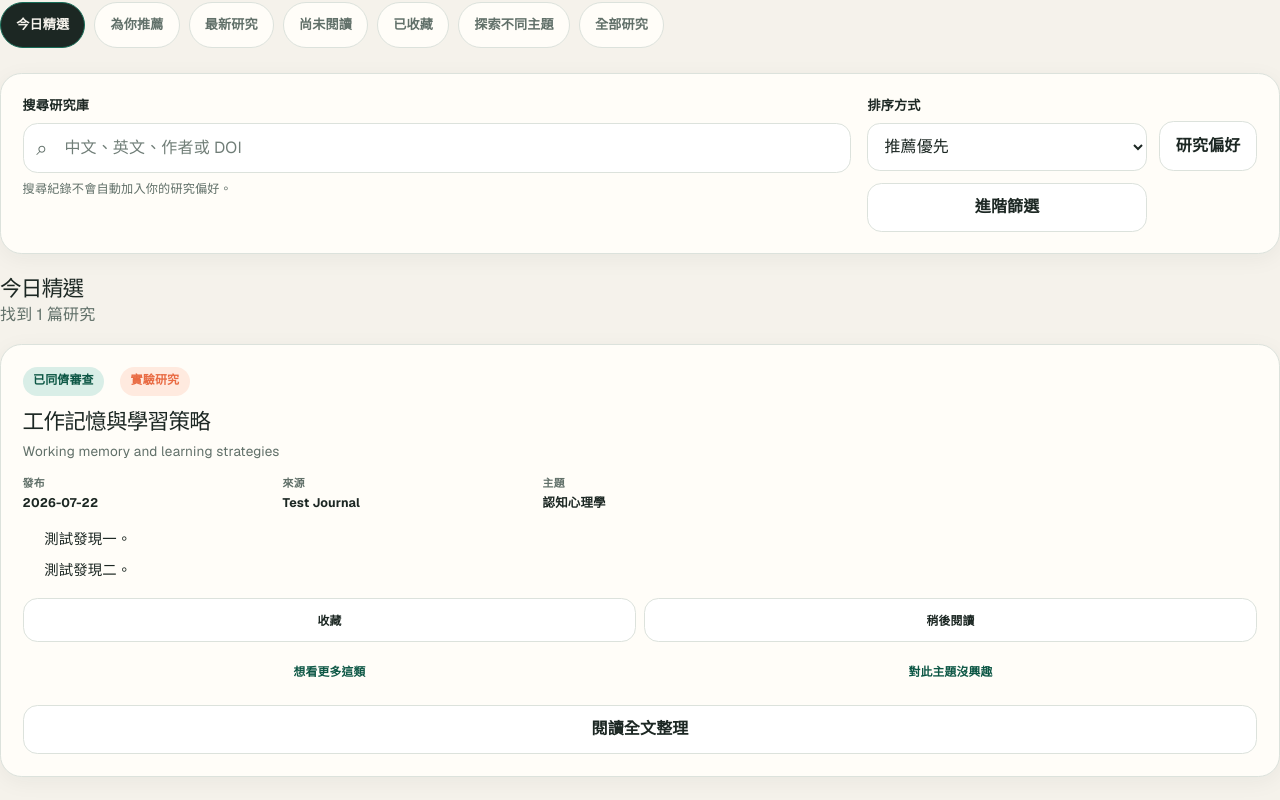
it: ResearchList › searches the local library and clears an empty result
This screenshot has width=1280, height=800.
Click the button "全部研究".
click(622, 25)  # box [579, 2, 664, 48]
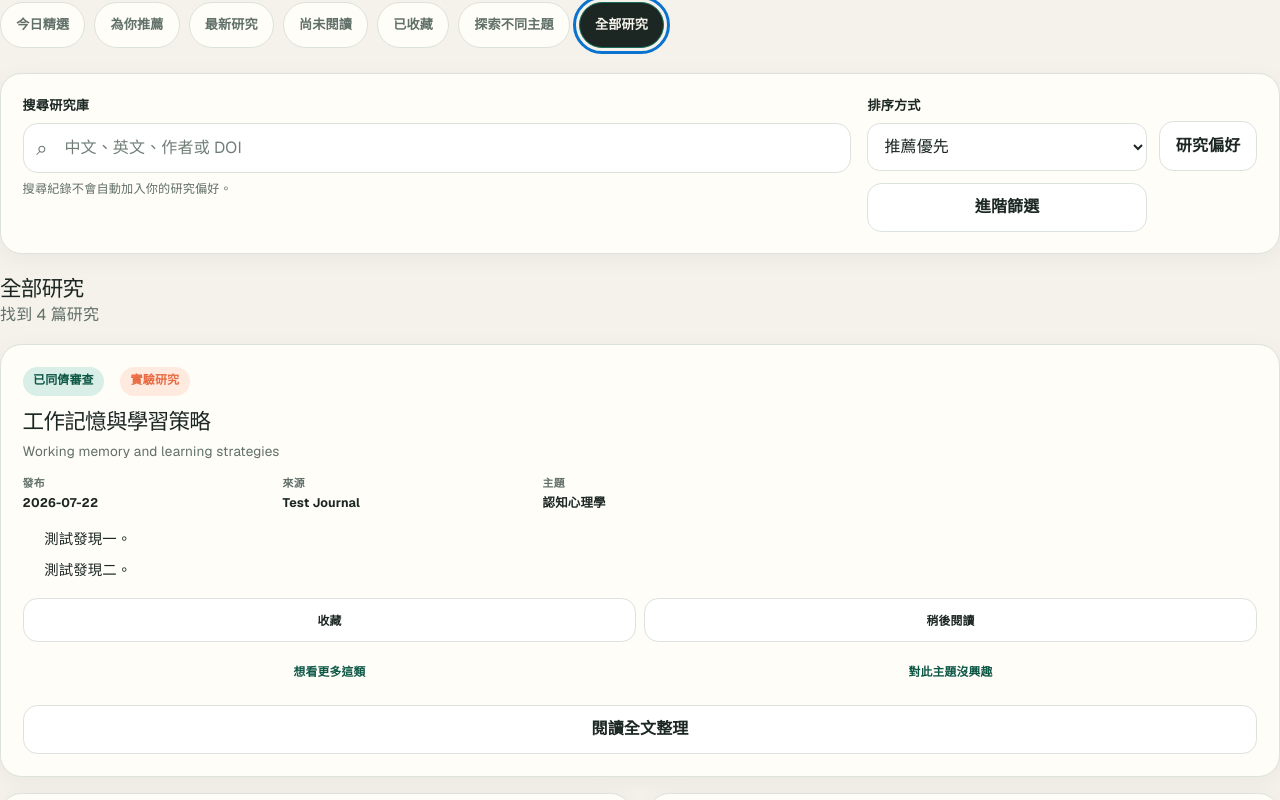
Type "Sleep brain" into the search field labelled "搜尋研究庫".
click(437, 148); type("Sleep brain")  # box [23, 123, 851, 173]
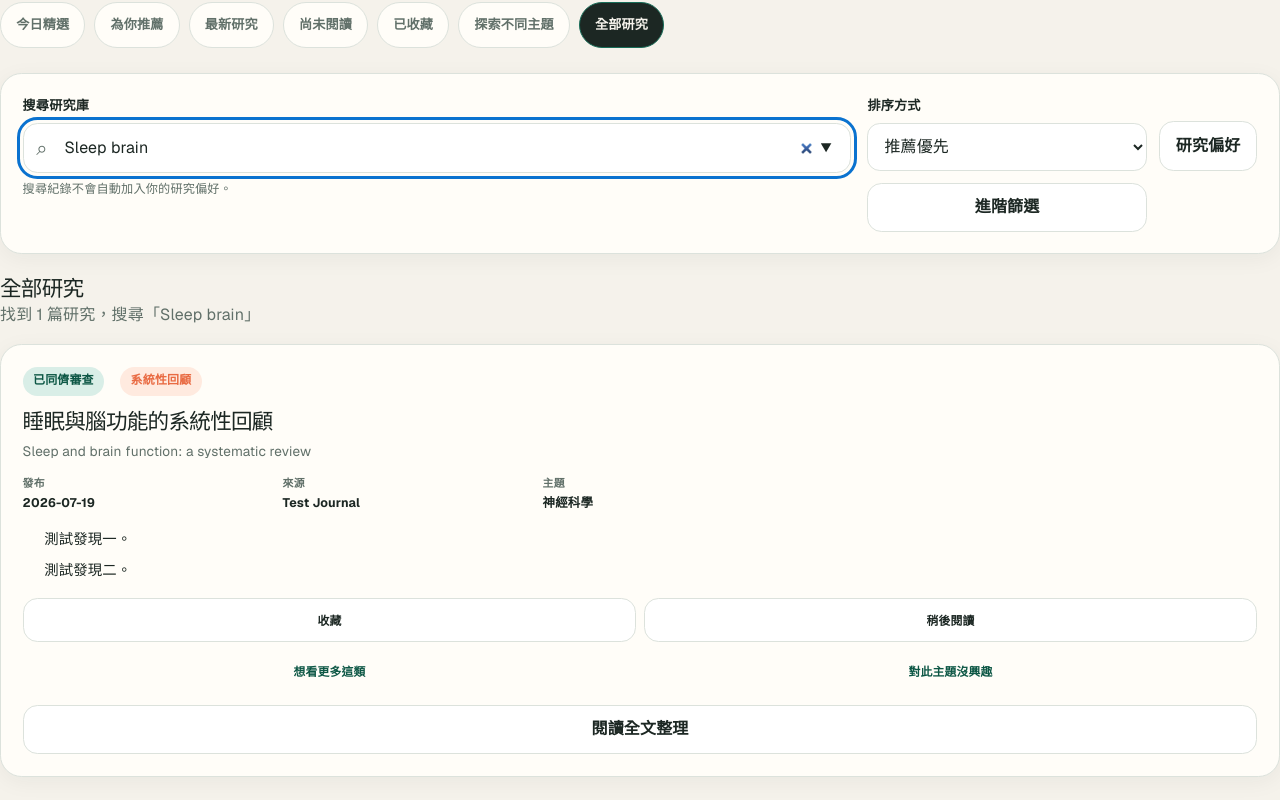
Now the heading "睡眠與腦功能的系統性回顧" is shown, box [23, 407, 273, 435]
Now the heading "工作記憶與學習策略" is gone
Replace the text in the search field labelled "搜尋研究庫" with "不存在" at (437, 148), box [23, 123, 851, 173]
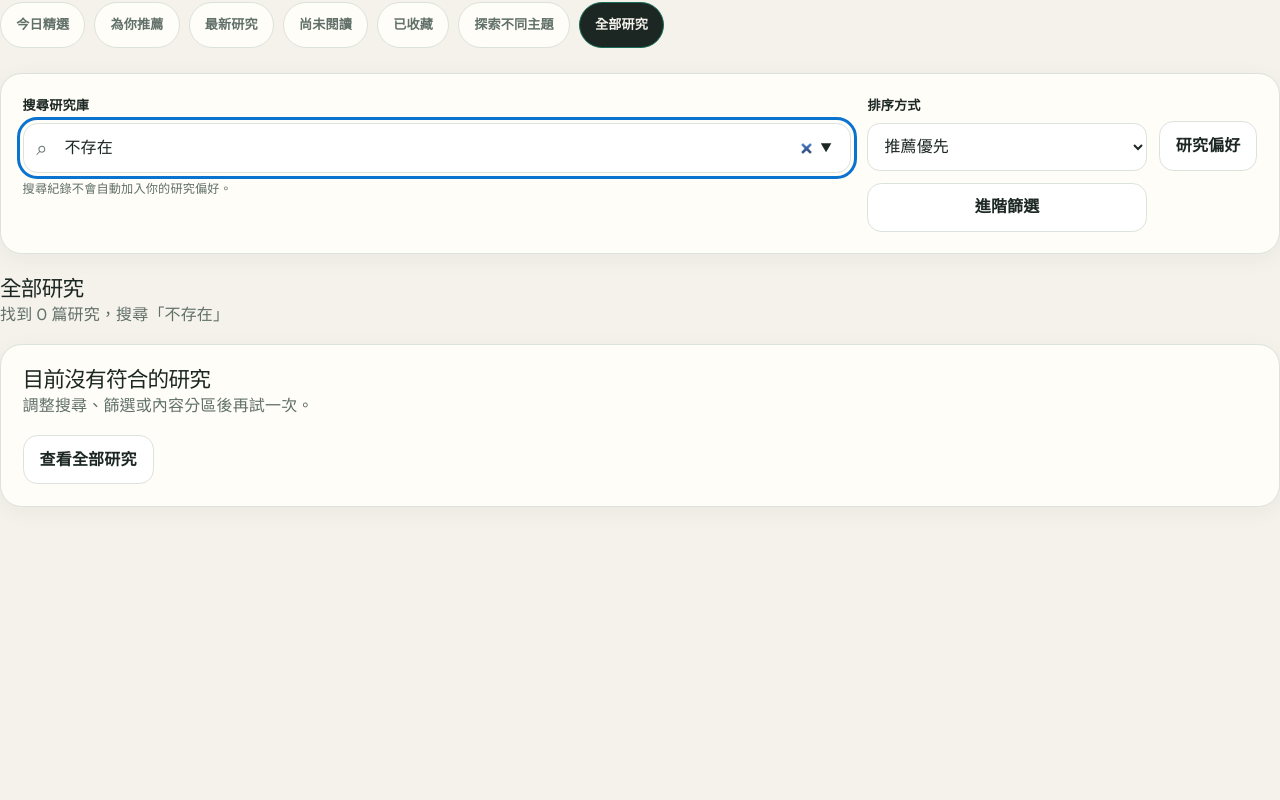
Click the button "查看全部研究".
click(88, 460)  # box [23, 435, 154, 484]
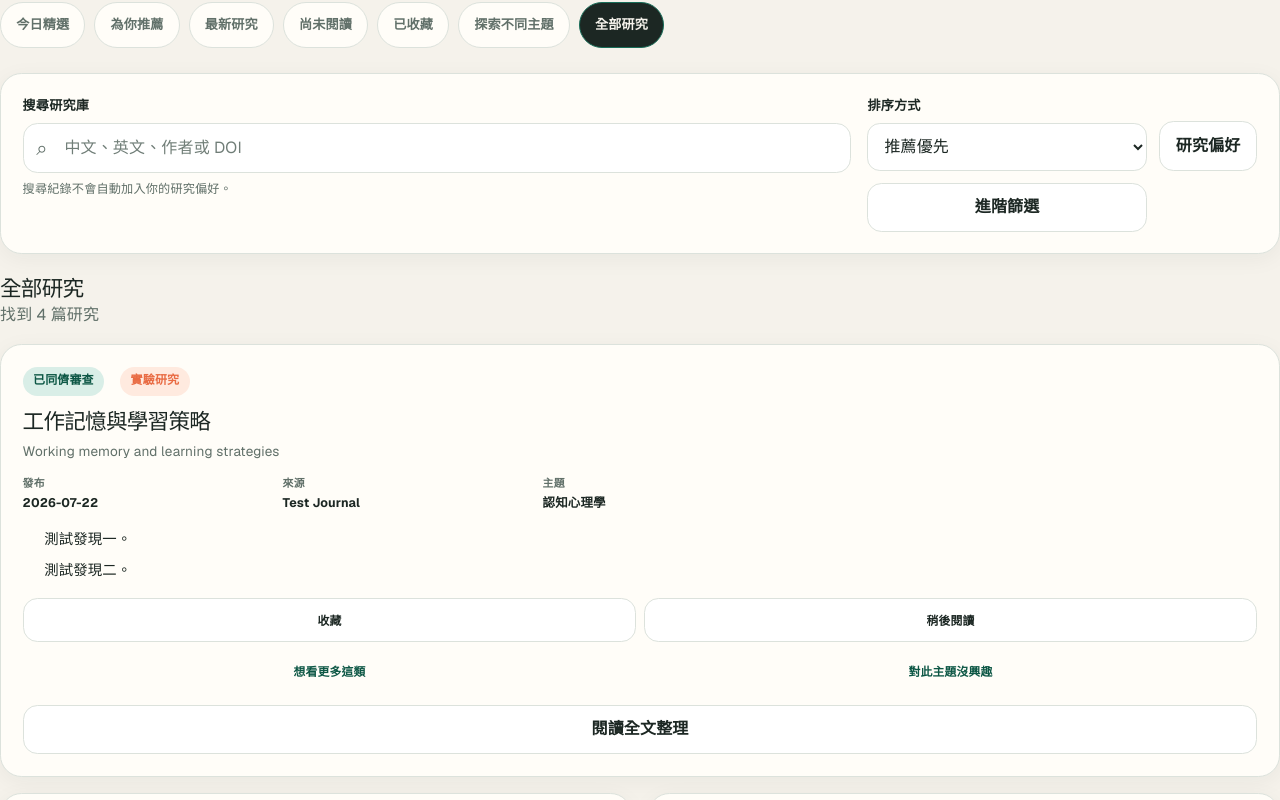
Now the heading "工作記憶與學習策略" is shown, box [23, 407, 210, 435]
